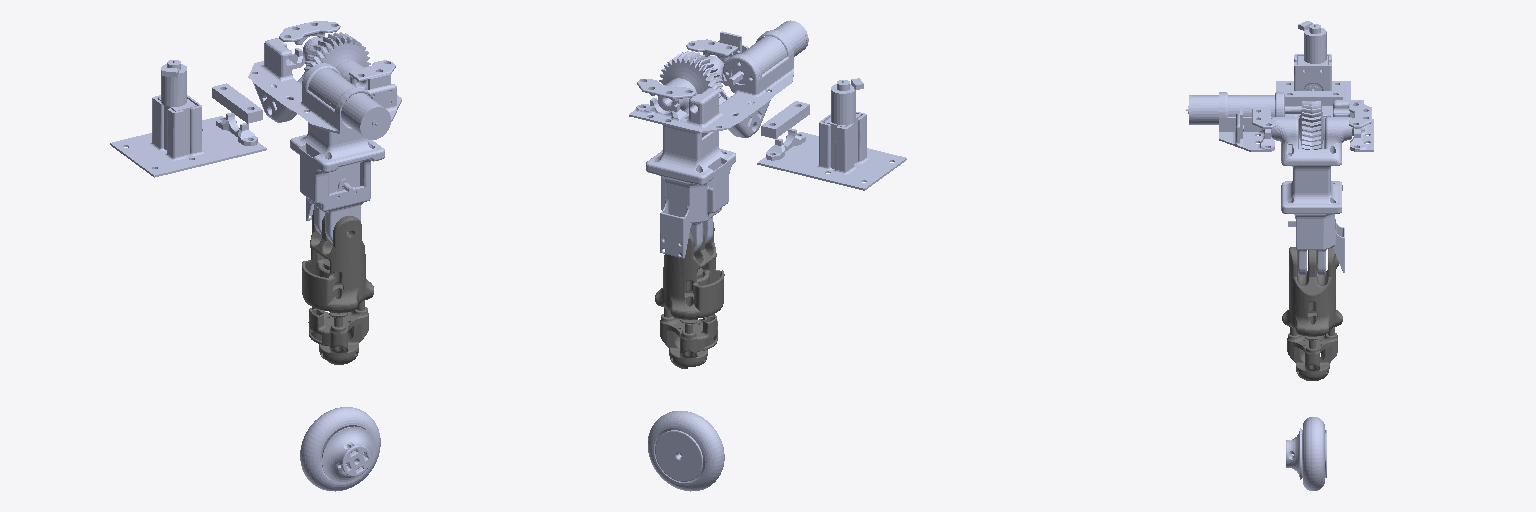
The robot description file, URDF, robot "full_assembly_v1":
<?xml version="1.0" encoding="utf-8"?>
<!-- This URDF was automatically created by SolidWorks to URDF Exporter! Originally created by [author] ([email redacted]) 
     Commit Version: 1.6.0-4-g7f85cfe  Build Version: 1.6.7995.38578
     For more information, please see http://wiki.ros.org/sw_urdf_exporter -->
<robot
  name="full_assembly_v1">

  <link name="world"/>

  <joint name="world_to_base" type="fixed">
    <origin xyz="0 0 0" rpy="3.14 0 3.140"/>
    <parent link="world"/>
    <child link="base_link"/>
  </joint>
  <link
    name="base_link">
    <inertial>
      <origin
        xyz="-0.0572238035323713 -0.0272496760577265 0.647717637408674"
        rpy="0 0 0" />
      <mass
        value="0.0919270554007034" />
      <inertia
        ixx="4.84762225859404E-05"
        ixy="3.15086331548094E-06"
        ixz="8.73196041368562E-08"
        iyy="4.59414383955305E-05"
        iyz="-9.87272955066456E-07"
        izz="5.38409599938986E-05" />
    </inertial>
    <visual>
      <origin
        xyz="0 0 0"
        rpy="0 0 0" />
      <geometry>
        <mesh
          filename="package://full_assembly_v1/meshes/base_link.STL" />
      </geometry>
      <material
        name="">
        <color
          rgba="0.792156862745098 0.819607843137255 0.933333333333333 1" />
      </material>
    </visual>
    <collision>
      <origin
        xyz="0 0 0"
        rpy="0 0 0" />
      <geometry>
        <mesh
          filename="package://full_assembly_v1/meshes/base_link.STL" />
      </geometry>
    </collision>
  </link>
  <link
    name="top_link">
    <inertial>
      <origin
        xyz="-0.0492183990843233 0.0264720631006972 0.0371541006360379"
        rpy="0 0 0" />
      <mass
        value="0.162132601411454" />
      <inertia
        ixx="6.02969093353471E-05"
        ixy="4.51006554265128E-06"
        ixz="1.44274837638849E-05"
        iyy="0.000220229502924341"
        iyz="-6.16449357890242E-06"
        izz="0.000187811518791442" />
    </inertial>
    <visual>
      <origin
        xyz="0 0 0"
        rpy="0 0 0" />
      <geometry>
        <mesh
          filename="package://full_assembly_v1/meshes/top_link.STL" />
      </geometry>
      <material
        name="">
        <color
          rgba="0.792156862745098 0.819607843137255 0.933333333333333 1" />
      </material>
    </visual>
    <collision>
      <origin
        xyz="0 0 0"
        rpy="0 0 0" />
      <geometry>
        <mesh
          filename="package://full_assembly_v1/meshes/top_link.STL" />
      </geometry>
    </collision>
  </link>
  <joint
    name="top_joint"
    type="continuous">
    <origin
      xyz="-0.14099 -0.64812 -0.0168"
      rpy="-1.5708 0 1.5708" />
    <parent
      link="base_link" />
    <child
      link="top_link" />
    <axis
      xyz="0 0 1" />
  </joint>
  <link
    name="top_leg_link">
    <inertial>
      <origin
        xyz="-0.000282452694612217 -0.0570945414995505 0.000146934957783396"
        rpy="0 0 0" />
      <mass
        value="0.302397913101836" />
      <inertia
        ixx="0.00019002104707392"
        ixy="1.67521889965365E-06"
        ixz="2.28822023056099E-07"
        iyy="0.000146068977557572"
        iyz="-1.91232000098984E-06"
        izz="0.000172763424093268" />
    </inertial>
    <visual>
      <origin
        xyz="0 0 0"
        rpy="0 0 0" />
      <geometry>
        <mesh
          filename="package://full_assembly_v1/meshes/top_leg_link.STL" />
      </geometry>
      <material
        name="">
        <color
          rgba="0.792156862745098 0.819607843137255 0.933333333333333 1" />
      </material>
    </visual>
    <collision>
      <origin
        xyz="0 0 0"
        rpy="0 0 0" />
      <geometry>
        <mesh
          filename="package://full_assembly_v1/meshes/top_leg_link.STL" />
      </geometry>
    </collision>
  </link>
  <joint
    name="top_leg_joint"
    type="revolute">
    <origin
      xyz="0 0.0285 0.071279"
      rpy="0 1.5708 0" />
    <parent
      link="top_link" />
    <child
      link="top_leg_link" />
    <axis
      xyz="0 0 1" />
    <limit
  lower="-1.5708"
  upper="1.5708"
  effort="10"
  velocity="1" />

  </joint>
  <link
    name="bot_leg_link">
    <inertial>
      <origin
        xyz="0.000458046907274245 -0.0535285839807097 -0.00127725352502081"
        rpy="0 0 0" />
      <mass
        value="0.149182925188911" />
      <inertia
        ixx="9.02177965742206E-05"
        ixy="5.62665709860027E-07"
        ixz="-4.38070923536804E-08"
        iyy="5.3231987493207E-05"
        iyz="-2.31266472991463E-06"
        izz="9.55481694757738E-05" />
    </inertial>
    <visual>
      <origin
        xyz="0 0 0"
        rpy="0 0 0" />
      <geometry>
        <mesh
          filename="package://full_assembly_v1/meshes/bot_leg_link.STL" />
      </geometry>
      <material
        name="">
        <color
          rgba="0.501960784313725 0.501960784313725 0.501960784313725 1" />
      </material>
    </visual>
    <collision>
      <origin
        xyz="0 0 0"
        rpy="0 0 0" />
      <geometry>
        <mesh
          filename="package://full_assembly_v1/meshes/bot_leg_link.STL" />
      </geometry>
    </collision>
  </link>
  <joint
    name="bot_leg_joint"
    type="continuous">
    <origin
      xyz="-4.4448E-05 -0.16 0"
      rpy="0.0061522 1.5708 0" />
    <parent
      link="top_leg_link" />
    <child
      link="bot_leg_link" />
    <axis
      xyz="1 0 0" />
  </joint>
  <link
    name="bot_rotative_link">
    <inertial>
      <origin
        xyz="0.0153389400347632 -0.00412422326118184 -0.100936822505974"
        rpy="0 0 0" />
      <mass
        value="0.252939186250068" />
      <inertia
        ixx="0.000198160027007689"
        ixy="7.45018132790768E-07"
        ixz="4.32605562373149E-05"
        iyy="0.00038447794674914"
        iyz="-3.35128808717316E-06"
        izz="0.000301102744095015" />
    </inertial>
    <visual>
      <origin
        xyz="0 0 0"
        rpy="0 0 0" />
      <geometry>
        <mesh
          filename="package://full_assembly_v1/meshes/bot_rotative_link.STL" />
      </geometry>
      <material
        name="">
        <color
          rgba="0.792156862745098 0.819607843137255 0.933333333333333 1" />
      </material>
    </visual>
    <collision>
      <origin
        xyz="0 0 0"
        rpy="0 0 0" />
      <geometry>
        <mesh
          filename="package://full_assembly_v1/meshes/bot_rotative_link.STL" />
      </geometry>
    </collision>
  </link>
  <joint
    name="bot_rotative_joint"
    type="continuous">
    <origin
      xyz="0.0005 -0.074997 -0.00092176"
      rpy="-1.5176 0 0" />
    <parent
      link="bot_leg_link" />
    <child
      link="bot_rotative_link" />
    <axis
      xyz="0 0.040843 0.99917" />
  </joint>
  <link
    name="wheel_link">
    <inertial>
      <origin
        xyz="8.16246572599155E-06 -6.04693517014532E-05 0.00158674704897144"
        rpy="0 0 0" />
      <mass
        value="0.114883585043401" />
      <inertia
        ixx="4.32968494063647E-05"
        ixy="2.02201194420691E-08"
        ixz="2.13249673668122E-08"
        iyy="4.34806105276206E-05"
        iyz="1.28078193990095E-09"
        izz="7.73818830319079E-05" />
    </inertial>
    <visual>
      <origin
        xyz="0 0 0"
        rpy="0 0 0" />
      <geometry>
        <mesh
          filename="package://full_assembly_v1/meshes/wheel_link.STL" />
      </geometry>
      <material
        name="">
        <color
          rgba="0.792156862745098 0.819607843137255 0.933333333333333 1" />
      </material>
    </visual>
    <collision>
      <origin
        xyz="0 0 0"
        rpy="0 0 0" />
      <geometry>
        <mesh
          filename="package://full_assembly_v1/meshes/wheel_link.STL" />
      </geometry>
    </collision>
  </link>
  <joint
    name="wheel_joint"
    type="continuous">
    <origin
      xyz="0 -0.0059752 -0.14618"
      rpy="1.5708 -0.27391 1.5708" />
    <parent
      link="bot_rotative_link" />
    <child
      link="wheel_link" />
    <axis
      xyz="0 0 1" />
  </joint>
</robot>

--- Facts derived from the render (not from the file) ---
The picture shows the robot from 3 angles, left to right: view 1: azimuth 30°, elevation 25°; view 2: azimuth 150°, elevation 25°; view 3: azimuth 270°, elevation 25°; orthographic projection.
Model full_assembly_v1 with 7 links and 6 joints (1 revolute, 4 continuous, 1 fixed), rooted at world, posed every joint at zero.
Links seen in each view (by area): view 1: top_link, base_link, top_leg_link, bot_leg_link, wheel_link; view 2: top_leg_link, top_link, base_link, bot_leg_link, wheel_link; view 3: top_leg_link, top_link, bot_leg_link, base_link, wheel_link.
Boxes of the visible links, left/top/right/bottom form: top_link: left=248, top=21, right=401, bottom=139; base_link: left=110, top=60, right=266, bottom=177; top_leg_link: left=290, top=32, right=384, bottom=242; bot_leg_link: left=302, top=210, right=373, bottom=364; wheel_link: left=300, top=407, right=380, bottom=491; top_leg_link: left=646, top=51, right=735, bottom=258; top_link: left=629, top=20, right=808, bottom=137; base_link: left=757, top=78, right=906, bottom=190; bot_leg_link: left=655, top=222, right=724, bottom=368; wheel_link: left=648, top=411, right=724, bottom=491; top_leg_link: left=1271, top=101, right=1351, bottom=275; top_link: left=1186, top=92, right=1373, bottom=151; bot_leg_link: left=1282, top=247, right=1342, bottom=380; base_link: left=1276, top=21, right=1350, bottom=110; wheel_link: left=1286, top=417, right=1326, bottom=490.
Bounding box of the posed robot: 0.2565 × 0.2001 × 0.4642 m (x, y, z).
5 mesh visuals loaded from 6 distinct referenced files (5 binary STL); not drawn: 1 (reference not matched to a file when rendering).